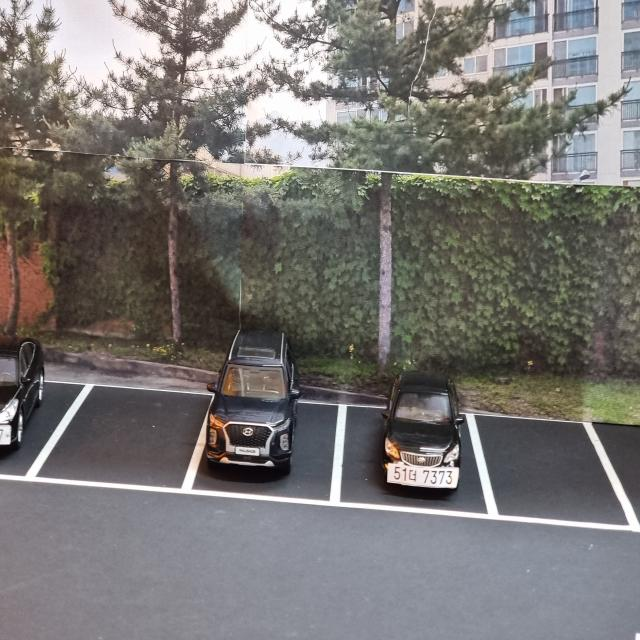empty: (462, 415, 640, 537), (50, 386, 208, 503)
occupied: (205, 320, 299, 476), (376, 354, 469, 492)
